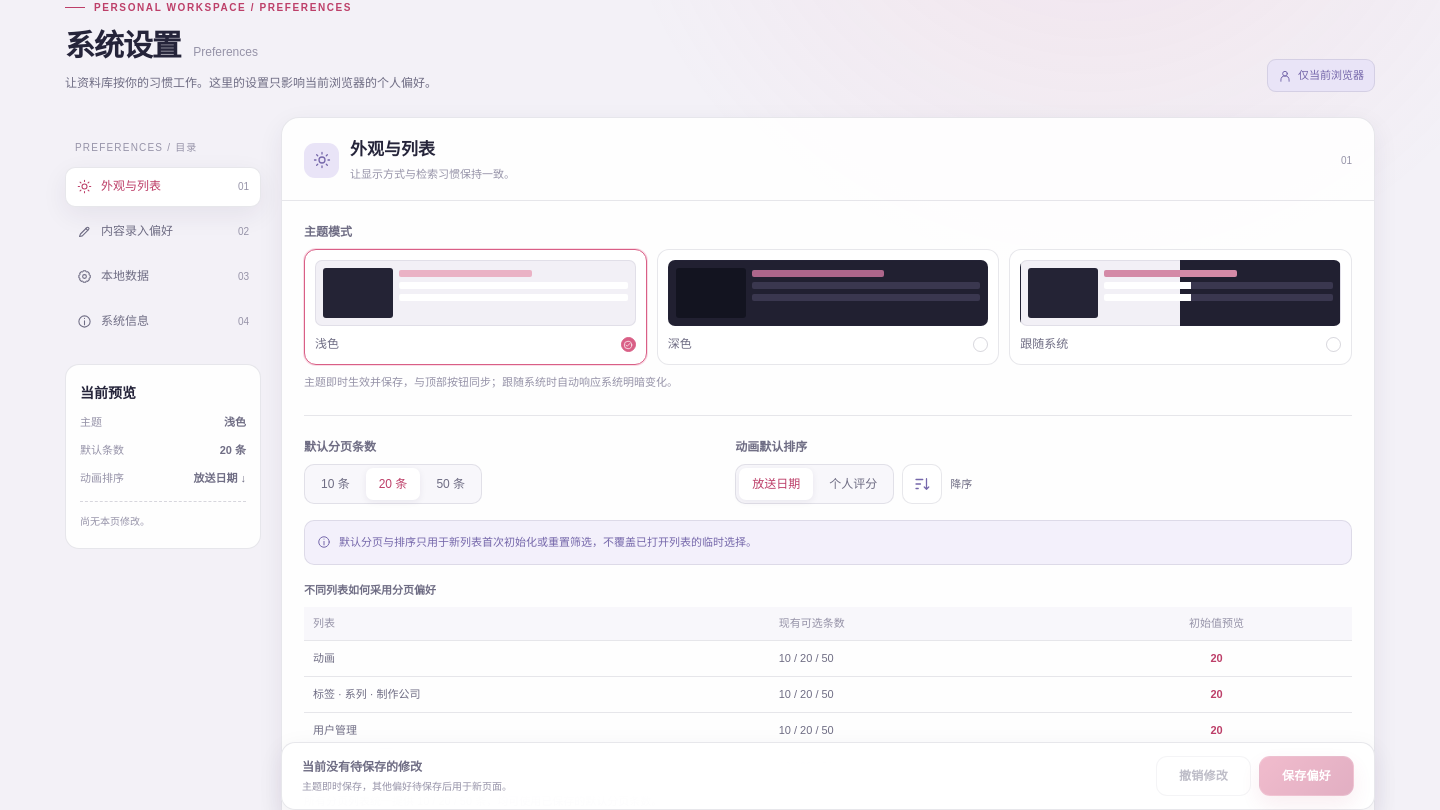
Test: 系统设置页面 › 管理员查询独立服务状态，刷新不会改动未保存偏好
The width and height of the screenshot is (1440, 810).
Click the button "50 条" at [451, 484], box [423, 468, 478, 500]
(page scrolled)
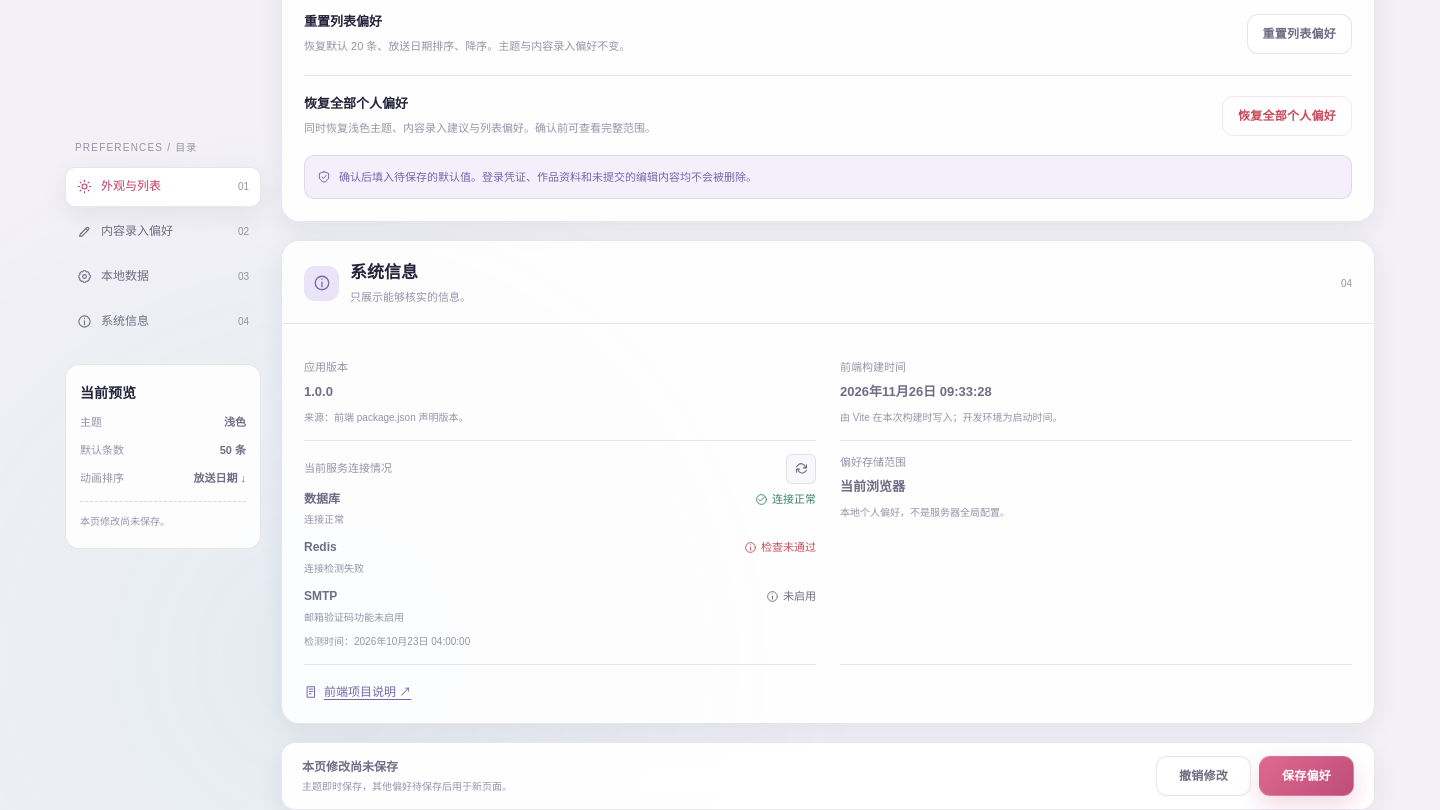
Click the button named "刷新服务连接检测" at [801, 469], box [786, 454, 816, 484]
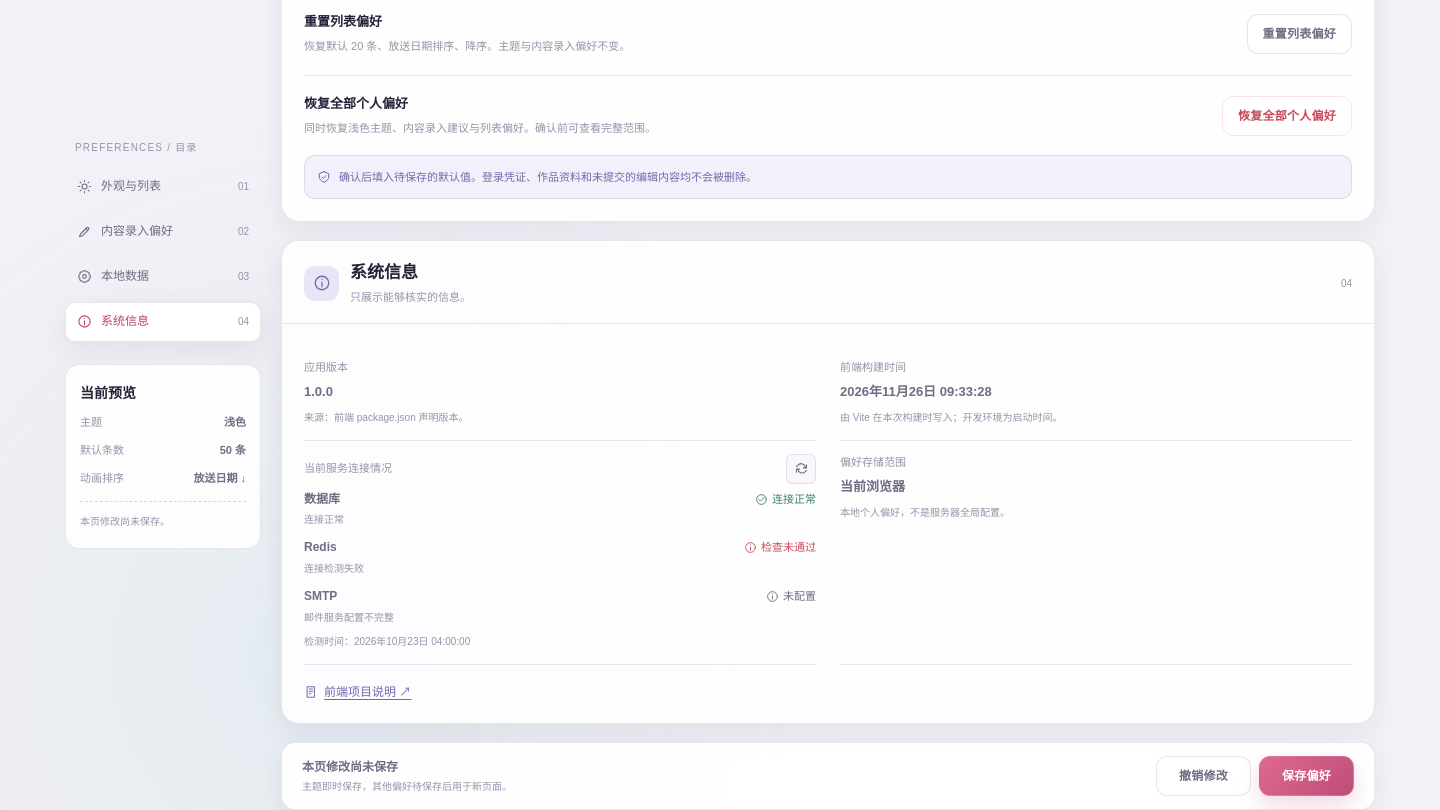
Expected: the element with class "health-unconfigured" reads "未配置", [783, 590, 816, 602]
Click the button named "刷新服务连接检测" at [801, 469], box [786, 454, 816, 484]
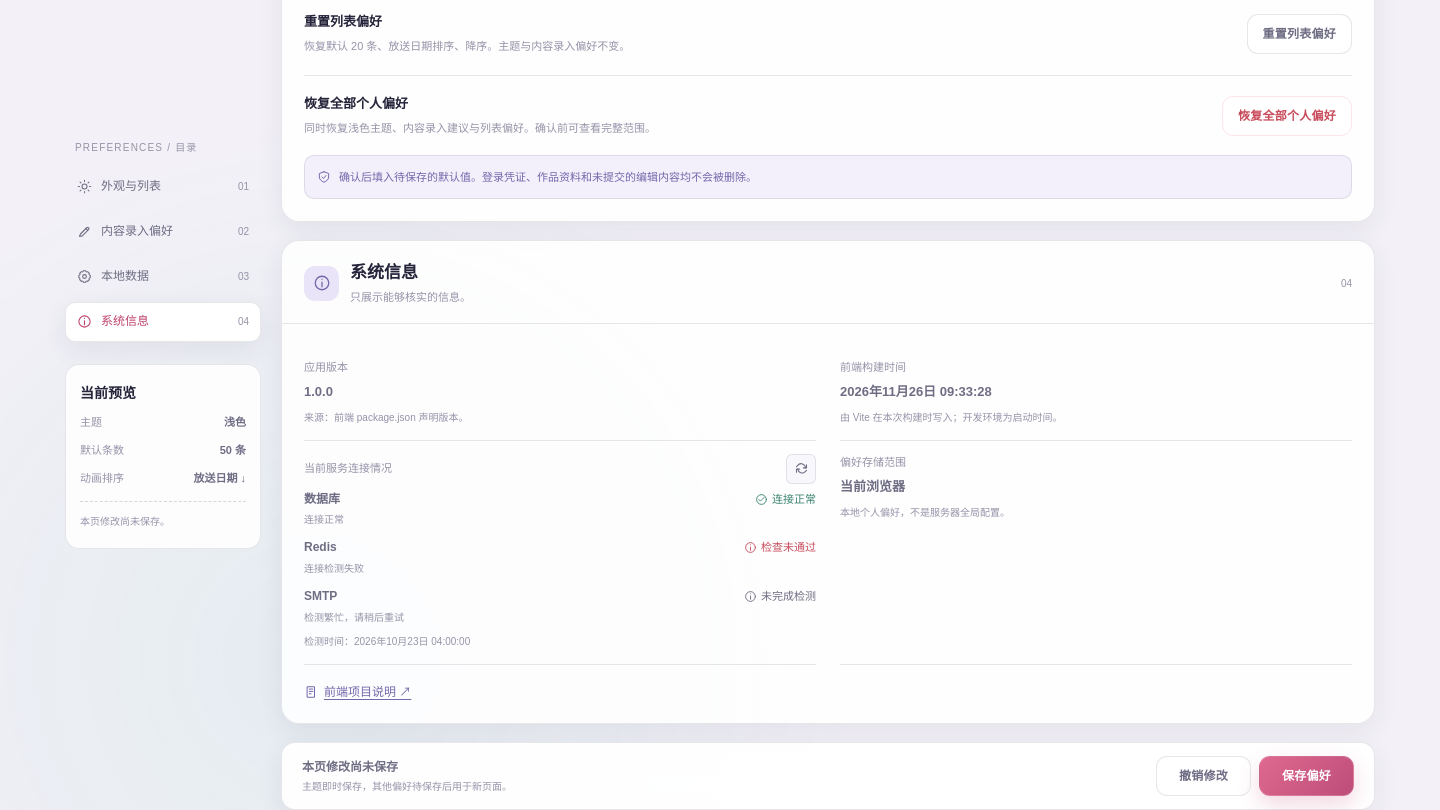
Expected: the element with class "health-not_checked" reads "未完成检测", [761, 590, 816, 602]
